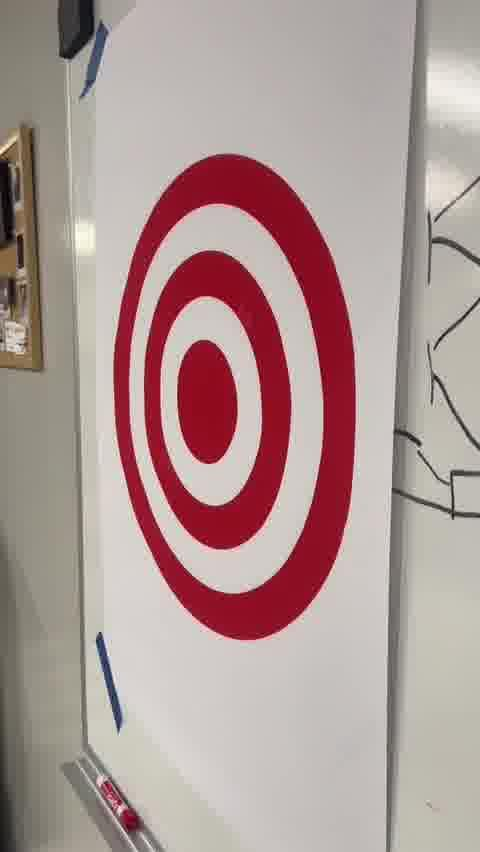target_red: (112, 153, 356, 639)
